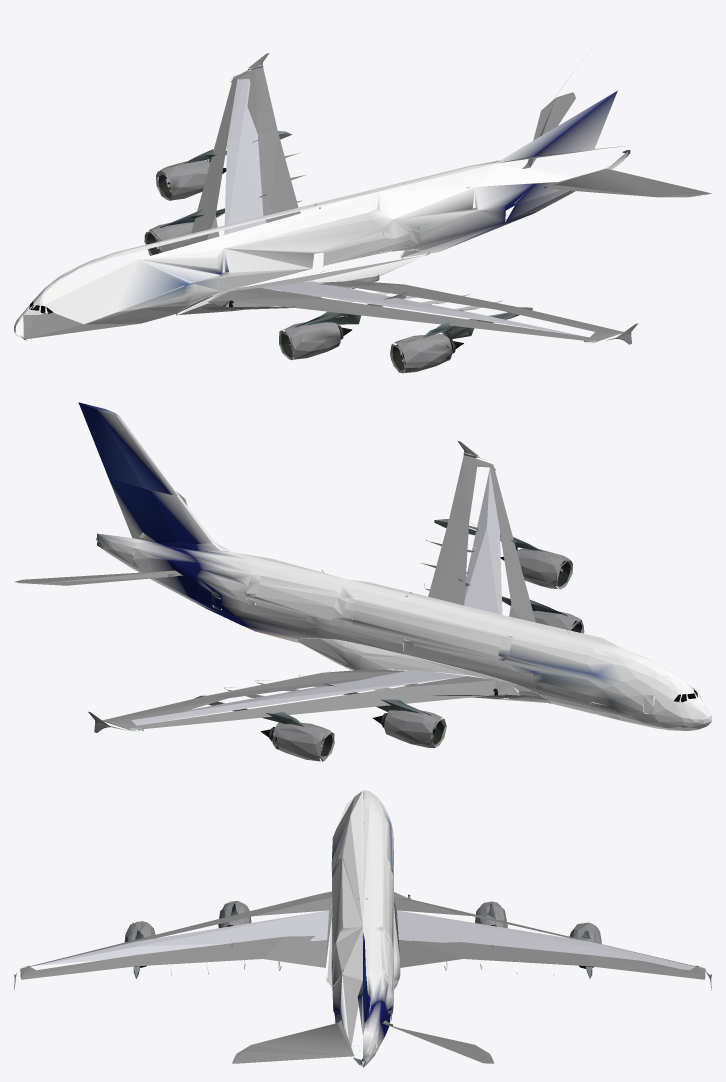
3 views of the same model, one above another, from view 1: azimuth 30°, elevation 25°; view 2: azimuth 150°, elevation 25°; view 3: azimuth 270°, elevation 25° (orthographic). The views are drawn at different scales.
Parts seen in each view (by area): view 1: AILE_DROITE02, WINGS2, MAT_EXTERIEUR02, AILERONS_GAUCHE03, Rectangle09; view 2: Rectangle09, AILE_DROITE02, WINGS2, MAT_EXTERIEUR02, AILERONS_GAUCHE03; view 3: AILE_DROITE02, WINGS2, Rectangle09, AILERONS_GAUCHE03, MAT_EXTERIEUR02.
Part boxes in pixels (x1,y1,x2,y2): AILE_DROITE02: (23, 65, 629, 341); WINGS2: (20, 76, 609, 342); MAT_EXTERIEUR02: (144, 160, 463, 373); AILERONS_GAUCHE03: (522, 92, 711, 197); Rectangle09: (14, 72, 624, 360); Rectangle09: (78, 402, 711, 749); AILE_DROITE02: (102, 455, 703, 730); WINGS2: (130, 464, 568, 731); MAT_EXTERIEUR02: (261, 548, 584, 761); AILERONS_GAUCHE03: (14, 490, 190, 585); AILE_DROITE02: (15, 791, 710, 1066); WINGS2: (22, 823, 703, 975); Rectangle09: (135, 790, 593, 1067); AILERONS_GAUCHE03: (232, 1020, 494, 1063); MAT_EXTERIEUR02: (124, 900, 601, 966).
Size of the model in its own units: 78937 by 22857 by 79826.
